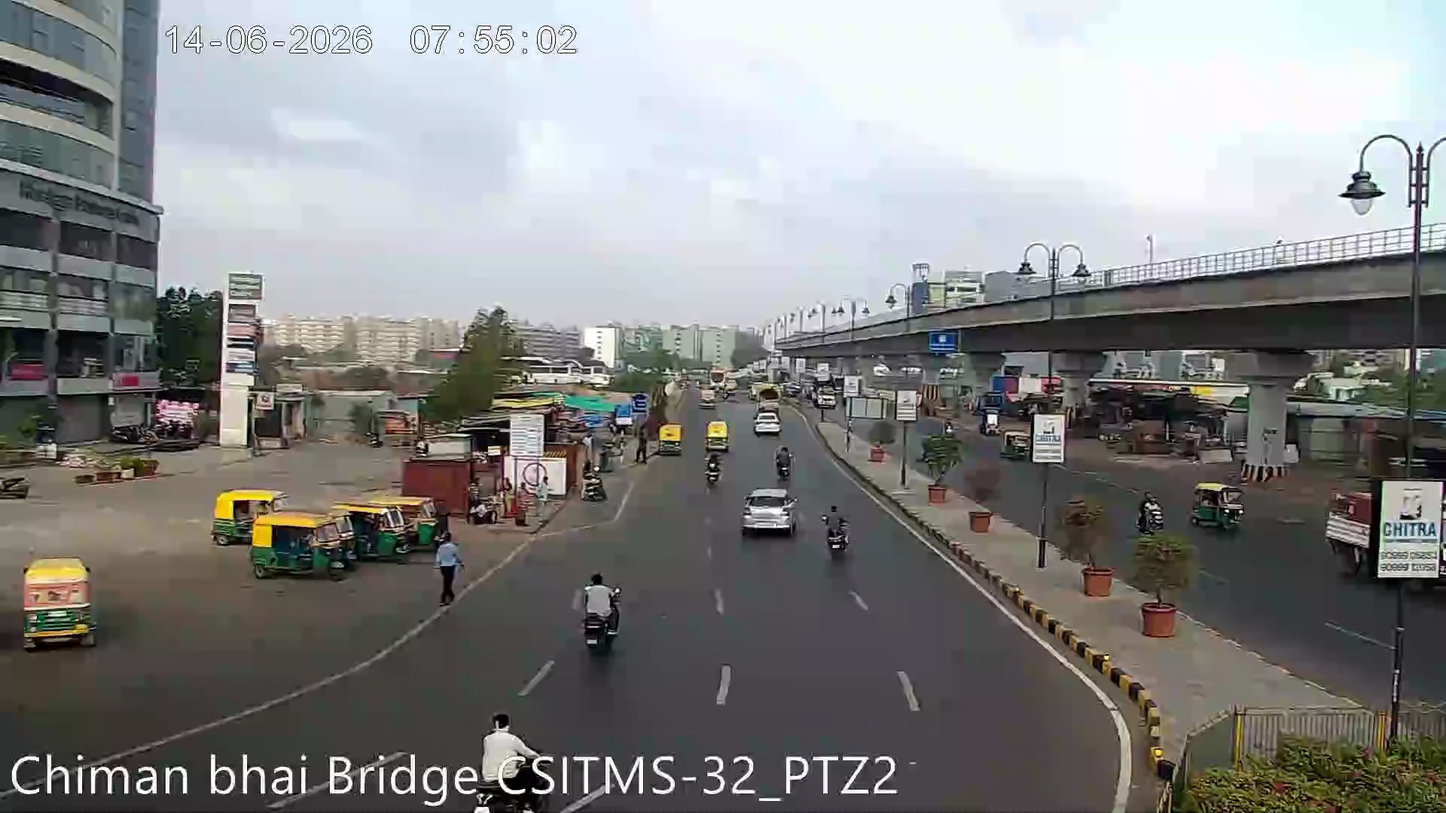auto_rickshaw: (244, 503, 357, 582), (20, 551, 98, 647), (335, 490, 436, 560), (355, 489, 445, 554), (209, 483, 284, 546), (1188, 477, 1247, 530), (1000, 428, 1032, 462), (657, 419, 684, 455), (705, 417, 731, 450)
car: (740, 484, 800, 537), (752, 404, 783, 435)
pedestrian: (431, 532, 465, 614)
two_wheeler: (471, 708, 542, 788), (571, 567, 628, 656), (821, 501, 853, 560), (1133, 489, 1167, 536), (701, 448, 724, 495), (701, 449, 723, 495), (771, 441, 796, 481)
